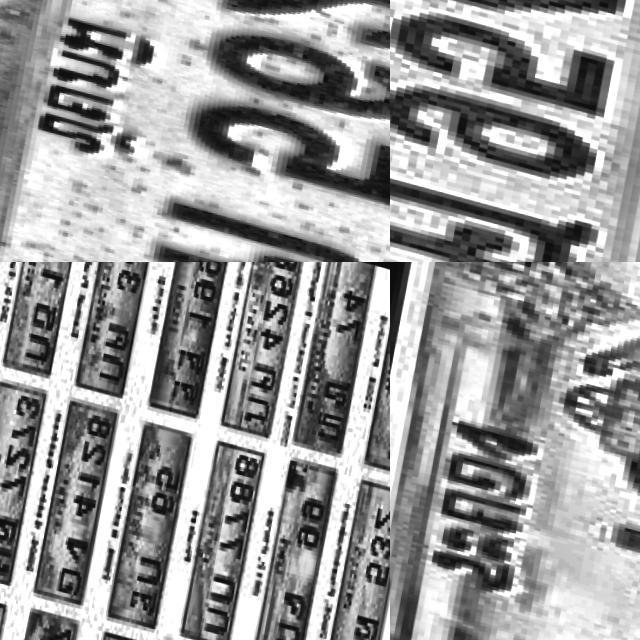license-plate: (0, 0, 390, 262), (390, 262, 640, 640), (390, 0, 640, 262), (106, 406, 198, 632), (32, 382, 124, 607), (180, 422, 271, 640), (251, 440, 341, 640), (290, 262, 381, 458), (218, 262, 310, 436), (145, 262, 237, 422), (72, 262, 163, 403), (320, 462, 390, 640), (0, 262, 89, 381), (0, 368, 47, 589), (362, 262, 390, 471)
